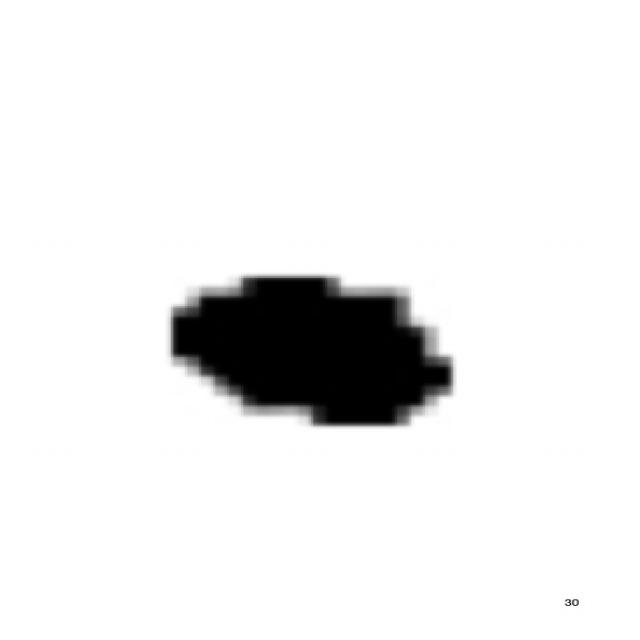0 -zero-: (156, 262, 463, 436)
